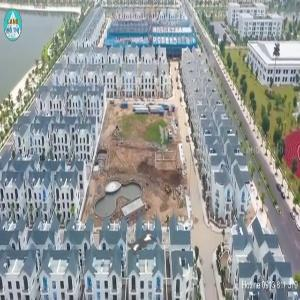drone: (104, 207, 179, 282)
